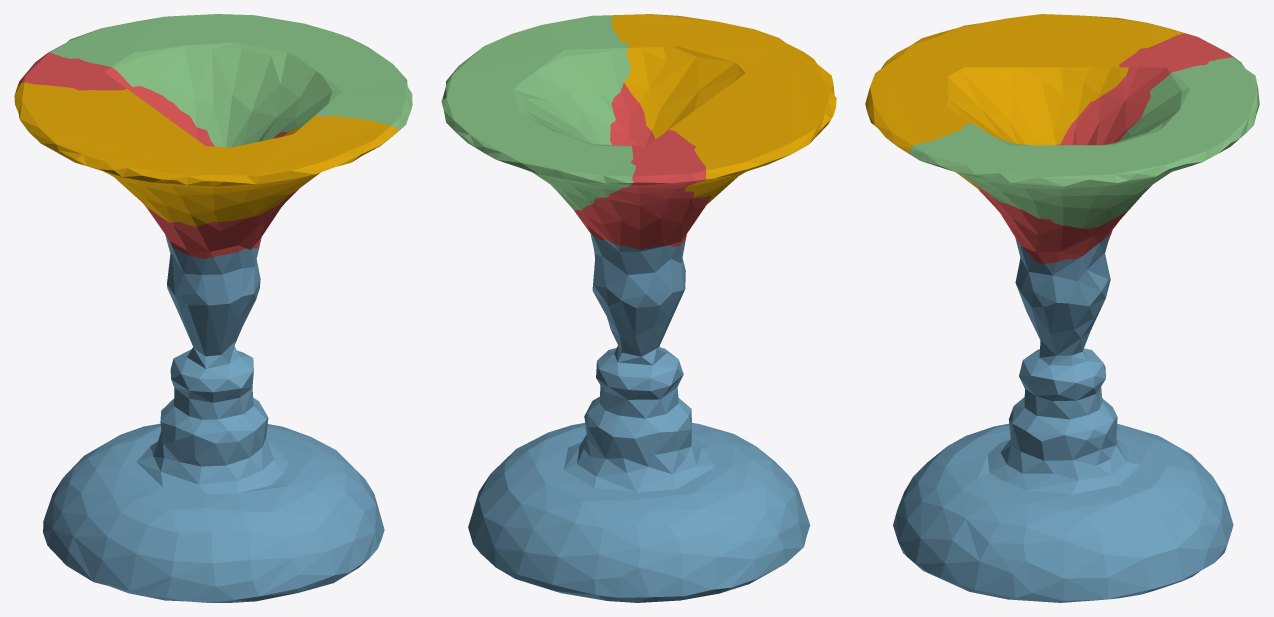
File: fractured_19_4pcs.glb
3 views of the same model, side by side, from view 1: azimuth 30°, elevation 25°; view 2: azimuth 150°, elevation 25°; view 3: azimuth 270°, elevation 25° (orthographic).
Parts seen in each view (by area): view 1: piece_2.obj, piece_3.obj, piece_0.obj, piece_1.obj; view 2: piece_2.obj, piece_0.obj, piece_3.obj, piece_1.obj; view 3: piece_2.obj, piece_0.obj, piece_3.obj, piece_1.obj.
Boxes of the visible parts, x1=… form: piece_2.obj: x1=43, y1=234, x2=384, y2=602; piece_3.obj: x1=46, y1=14, x2=412, y2=147; piece_0.obj: x1=14, y1=82, x2=398, y2=226; piece_1.obj: x1=17, y1=52, x2=298, y2=258; piece_2.obj: x1=468, y1=233, x2=810, y2=602; piece_0.obj: x1=611, y1=14, x2=836, y2=205; piece_3.obj: x1=441, y1=15, x2=635, y2=210; piece_1.obj: x1=574, y1=83, x2=710, y2=249; piece_2.obj: x1=893, y1=227, x2=1233, y2=602; piece_0.obj: x1=865, y1=14, x2=1184, y2=190; piece_3.obj: x1=908, y1=57, x2=1259, y2=228; piece_1.obj: x1=973, y1=33, x2=1235, y2=263.
Bounding box in the file's own units: 0.8186 × 1 × 0.815.
